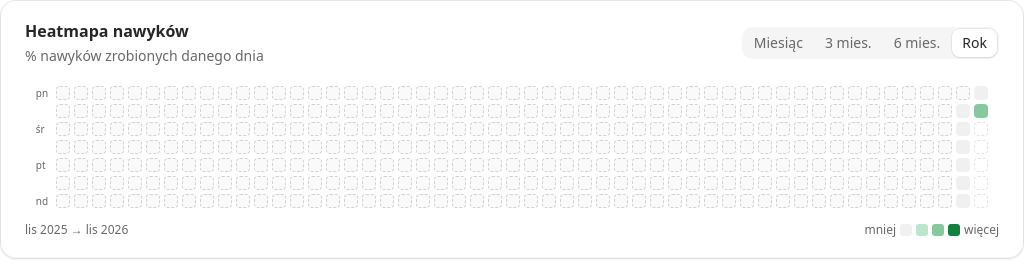
Test: HabitHeatmap › 3 i 6 mies. pokazują 13 i 26 kolumn
What coordinates should you click on to do the following:
click the radio button labelled "3 mies."
I would click on:
 (848, 43)
Its box is left=815, top=29, right=882, bottom=57.
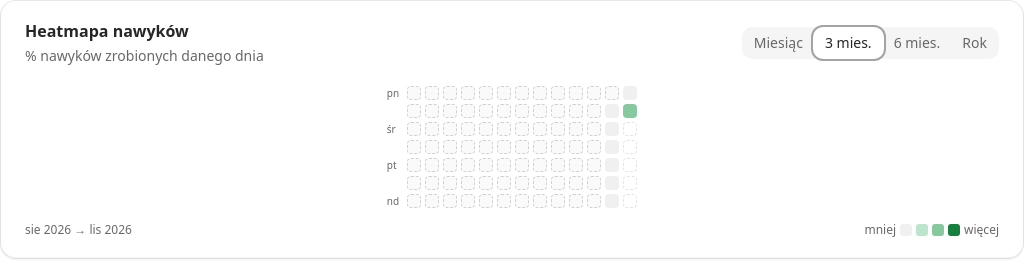
Now the number of pictures is 91
What coordinates should you click on to do the following:
click the radio button labelled "6 mies."
I would click on:
 (917, 43)
Its box is left=884, top=29, right=950, bottom=57.
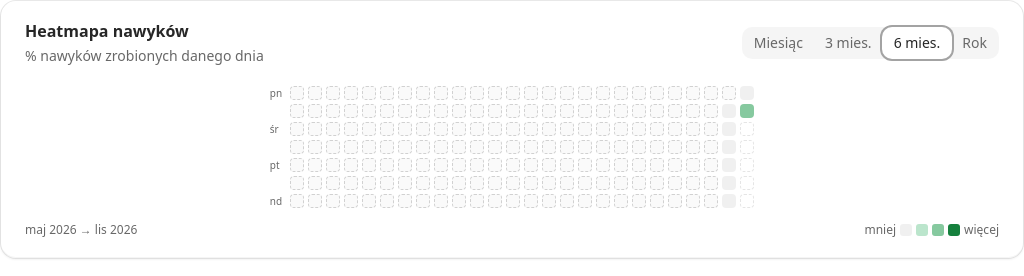
Now the number of pictures is 182
